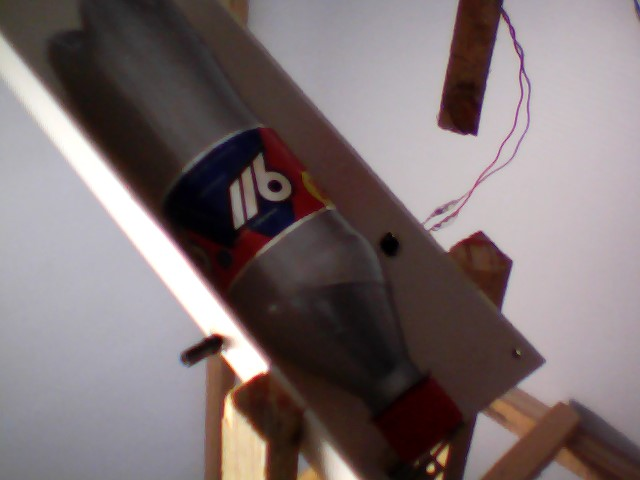plastico: (47, 1, 469, 462)
